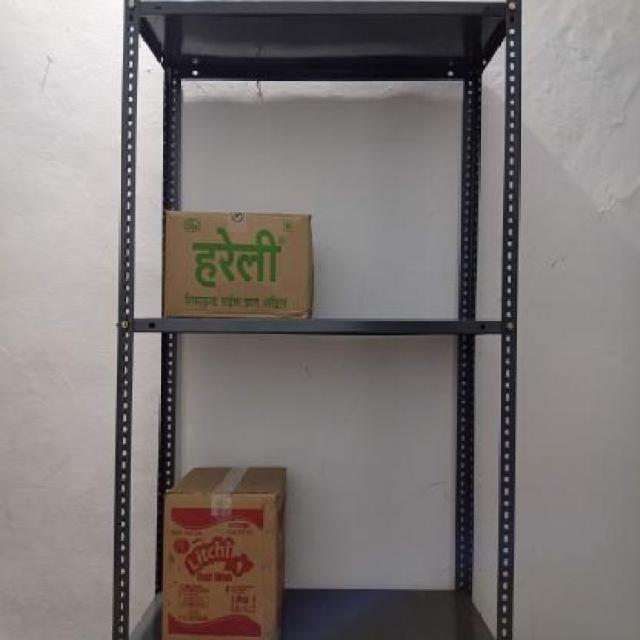box: (162, 492, 276, 640), (166, 208, 311, 322)
